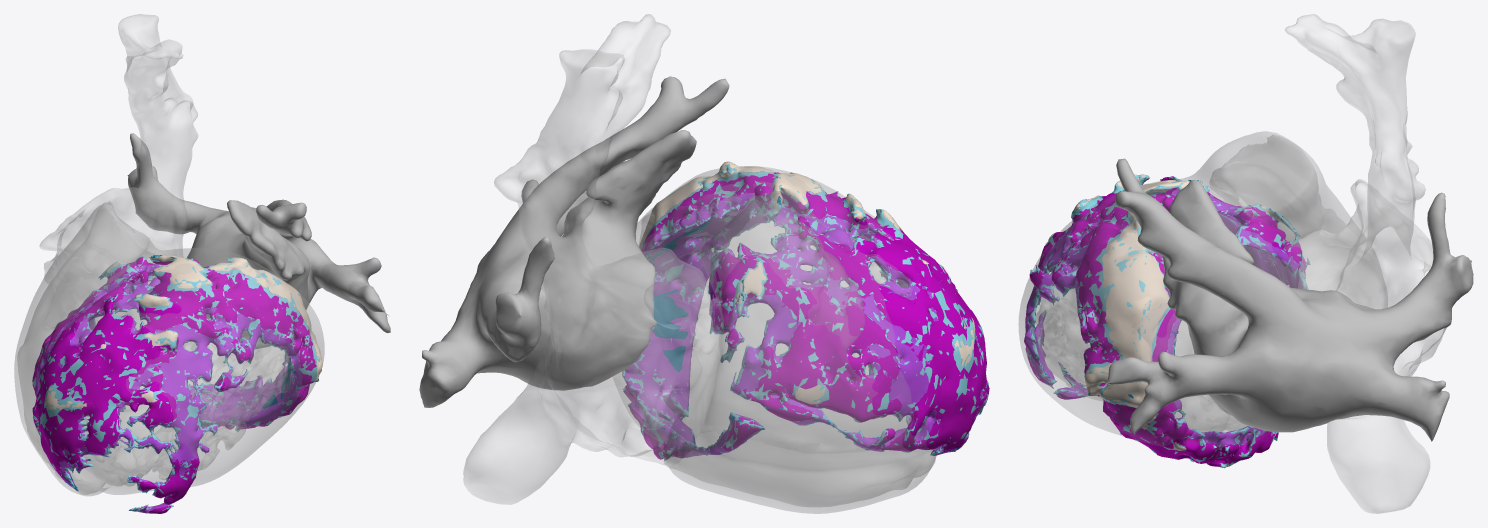
Rendered from inHEART_8_SCAR.glb.
3 renders of one model, left to right at view 1: azimuth 30°, elevation 25°; view 2: azimuth 150°, elevation 25°; view 3: azimuth 270°, elevation 25°, orthographic. The views are drawn at different scales.
Visible parts, largest first — view 1: EPI (CT) - Left and Right Epicardium - inHEART, SCAR_INTRA (LE) - scar intramural - inHEART, RA ENDO (CT) - Right Atrial Endocardium - inHEART, LA ENDO (CT) - Left Atrial Endocardium with Pulmonary Veins , SCAR_ENDO (LE) - scar subendocardial - inHEART, SCAR (LE) - Scar - inHEART, LV ENDO (CT) - Left Ventricular Endocardium - inHEART, RV ENDO (CT) - Right Ventricular Endocardium - inHEART, SCAR_EPI (LE) - scar subepicardial - inHEART, DENSE SCAR (LE) - Dense Scar - inHEART; view 2: EPI (CT) - Left and Right Epicardium - inHEART, RA ENDO (CT) - Right Atrial Endocardium - inHEART, RV ENDO (CT) - Right Ventricular Endocardium - inHEART, LA ENDO (CT) - Left Atrial Endocardium with Pulmonary Veins , SCAR_INTRA (LE) - scar intramural - inHEART, SCAR_ENDO (LE) - scar subendocardial - inHEART, SCAR (LE) - Scar - inHEART, LV ENDO (CT) - Left Ventricular Endocardium - inHEART, SCAR_EPI (LE) - scar subepicardial - inHEART, DENSE SCAR (LE) - Dense Scar - inHEART; view 3: LA ENDO (CT) - Left Atrial Endocardium with Pulmonary Veins , EPI (CT) - Left and Right Epicardium - inHEART, RA ENDO (CT) - Right Atrial Endocardium - inHEART, SCAR_INTRA (LE) - scar intramural - inHEART, RV ENDO (CT) - Right Ventricular Endocardium - inHEART, LV ENDO (CT) - Left Ventricular Endocardium - inHEART, SCAR_EPI (LE) - scar subepicardial - inHEART, SCAR (LE) - Scar - inHEART, SCAR_ENDO (LE) - scar subendocardial - inHEART.
Boxes of the visible parts, x1=… form: EPI (CT) - Left and Right Epicardium - inHEART: x1=14, y1=204, x2=324, y2=495; SCAR_INTRA (LE) - scar intramural - inHEART: x1=32, y1=257, x2=316, y2=513; RA ENDO (CT) - Right Atrial Endocardium - inHEART: x1=39, y1=14, x2=197, y2=283; LA ENDO (CT) - Left Atrial Endocardium with Pulmonary Veins : x1=127, y1=133, x2=390, y2=348; SCAR_ENDO (LE) - scar subendocardial - inHEART: x1=35, y1=264, x2=302, y2=512; SCAR (LE) - Scar - inHEART: x1=32, y1=255, x2=321, y2=513; LV ENDO (CT) - Left Ventricular Endocardium - inHEART: x1=82, y1=265, x2=304, y2=486; RV ENDO (CT) - Right Ventricular Endocardium - inHEART: x1=17, y1=201, x2=154, y2=494; SCAR_EPI (LE) - scar subepicardial - inHEART: x1=45, y1=255, x2=322, y2=409; DENSE SCAR (LE) - Dense Scar - inHEART: x1=34, y1=255, x2=318, y2=513; EPI (CT) - Left and Right Epicardium - inHEART: x1=613, y1=166, x2=937, y2=513; RA ENDO (CT) - Right Atrial Endocardium - inHEART: x1=463, y1=14, x2=723, y2=504; RV ENDO (CT) - Right Ventricular Endocardium - inHEART: x1=664, y1=194, x2=935, y2=506; LA ENDO (CT) - Left Atrial Endocardium with Pulmonary Veins : x1=419, y1=76, x2=729, y2=407; SCAR_INTRA (LE) - scar intramural - inHEART: x1=623, y1=172, x2=989, y2=459; SCAR_ENDO (LE) - scar subendocardial - inHEART: x1=624, y1=192, x2=988, y2=456; SCAR (LE) - Scar - inHEART: x1=622, y1=164, x2=988, y2=460; LV ENDO (CT) - Left Ventricular Endocardium - inHEART: x1=638, y1=182, x2=907, y2=357; SCAR_EPI (LE) - scar subepicardial - inHEART: x1=639, y1=161, x2=975, y2=404; DENSE SCAR (LE) - Dense Scar - inHEART: x1=646, y1=177, x2=988, y2=455; LA ENDO (CT) - Left Atrial Endocardium with Pulmonary Veins : x1=1101, y1=158, x2=1473, y2=441; EPI (CT) - Left and Right Epicardium - inHEART: x1=1018, y1=131, x2=1387, y2=448; RA ENDO (CT) - Right Atrial Endocardium - inHEART: x1=1285, y1=14, x2=1446, y2=513; SCAR_INTRA (LE) - scar intramural - inHEART: x1=1024, y1=176, x2=1307, y2=467; RV ENDO (CT) - Right Ventricular Endocardium - inHEART: x1=1209, y1=134, x2=1381, y2=308; LV ENDO (CT) - Left Ventricular Endocardium - inHEART: x1=1036, y1=214, x2=1299, y2=431; SCAR_EPI (LE) - scar subepicardial - inHEART: x1=1045, y1=174, x2=1298, y2=466; SCAR (LE) - Scar - inHEART: x1=1026, y1=174, x2=1309, y2=468; SCAR_ENDO (LE) - scar subendocardial - inHEART: x1=1025, y1=189, x2=1305, y2=447.
Size of the model in its own units: 1.01 by 1.05 by 0.9739.
